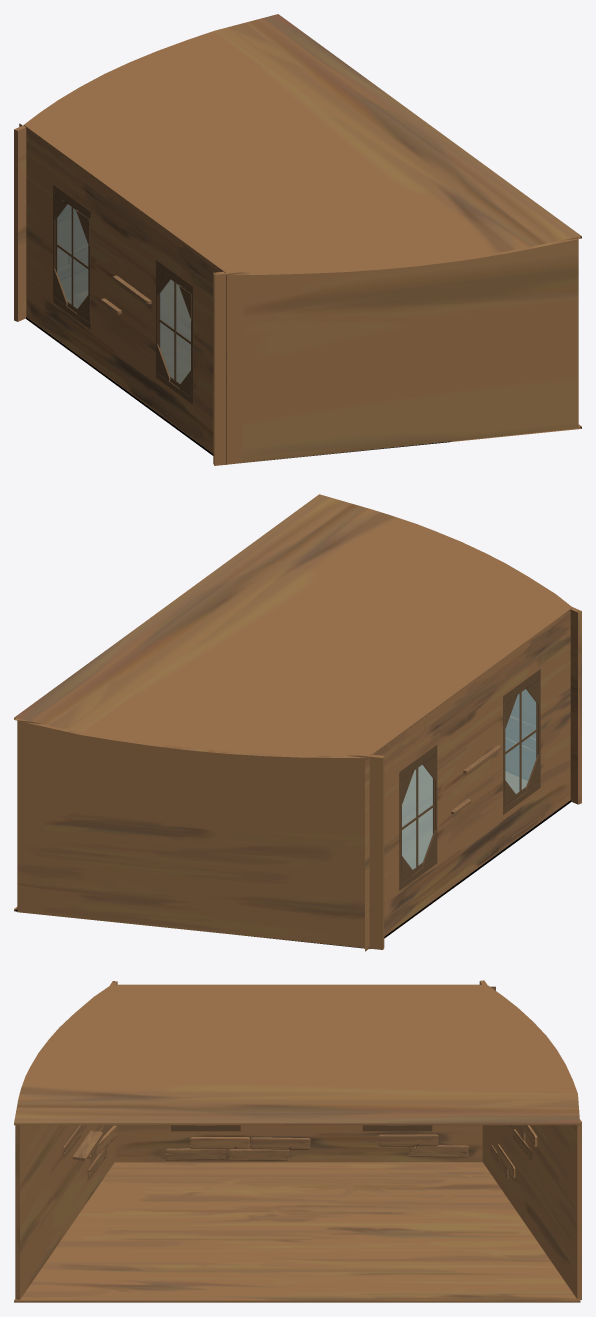
Rendered from Ship.glb.
The picture shows the model from 3 angles, top to bottom: view 1: azimuth 30°, elevation 25°; view 2: azimuth 150°, elevation 25°; view 3: azimuth 270°, elevation 25°; orthographic projection. The views are drawn at different scales.
Visible parts, largest first — view 1: Ceiling, Left, Back.001, Right, Floor, win fram, win fram.001, Window Pane.001, Window Pane; view 2: Ceiling, Right, Back.001, Left, Floor, win fram.001, win fram, Window Pane, Window Pane.001; view 3: Ceiling, Floor, Right, Left, Back.001, Board3.003, Board3.001, Board4.001, Board2.003, Board2.001, Board1.001, win fram.001 (+2 smaller).
Boxes of the visible parts, left/top/right/bottom form: Ceiling: left=23, top=14, right=581, bottom=274; Left: left=213, top=237, right=578, bottom=465; Back.001: left=19, top=123, right=226, bottom=464; Right: left=14, top=125, right=87, bottom=321; Floor: left=26, top=280, right=581, bottom=460; win fram: left=156, top=259, right=193, bottom=404; win fram.001: left=53, top=184, right=90, bottom=329; Window Pane.001: left=57, top=204, right=88, bottom=308; Window Pane: left=160, top=279, right=190, bottom=383; Ceiling: left=14, top=494, right=572, bottom=757; Right: left=17, top=718, right=384, bottom=949; Back.001: left=365, top=611, right=570, bottom=951; Left: left=505, top=607, right=581, bottom=804; Floor: left=14, top=765, right=571, bottom=948; win fram.001: left=399, top=745, right=437, bottom=890; win fram: left=503, top=669, right=540, bottom=814; Window Pane: left=505, top=689, right=536, bottom=793; Window Pane.001: left=402, top=764, right=432, bottom=869; Ceiling: left=14, top=984, right=580, bottom=1125; Floor: left=14, top=1162, right=580, bottom=1302; Right: left=479, top=980, right=581, bottom=1300; Left: left=15, top=981, right=117, bottom=1299; Back.001: left=115, top=986, right=495, bottom=1162; Board3.003: left=378, top=1134, right=438, bottom=1146; Board3.001: left=250, top=1137, right=310, bottom=1149; Board4.001: left=228, top=1149, right=288, bottom=1160; Board2.003: left=408, top=1145, right=468, bottom=1157; Board2.001: left=165, top=1148, right=225, bottom=1160; Board1.001: left=190, top=1137, right=249, bottom=1148; win fram.001: left=362, top=1125, right=432, bottom=1131.
Size of the model in its own units: 11.95 by 6.97 by 19.98.
42 materials, 40 textured.
